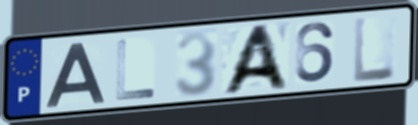3: (174, 28, 219, 98)
6: (294, 21, 337, 86)
A: (218, 22, 292, 96), (42, 40, 108, 109)
L: (352, 14, 398, 85), (114, 37, 157, 102)
